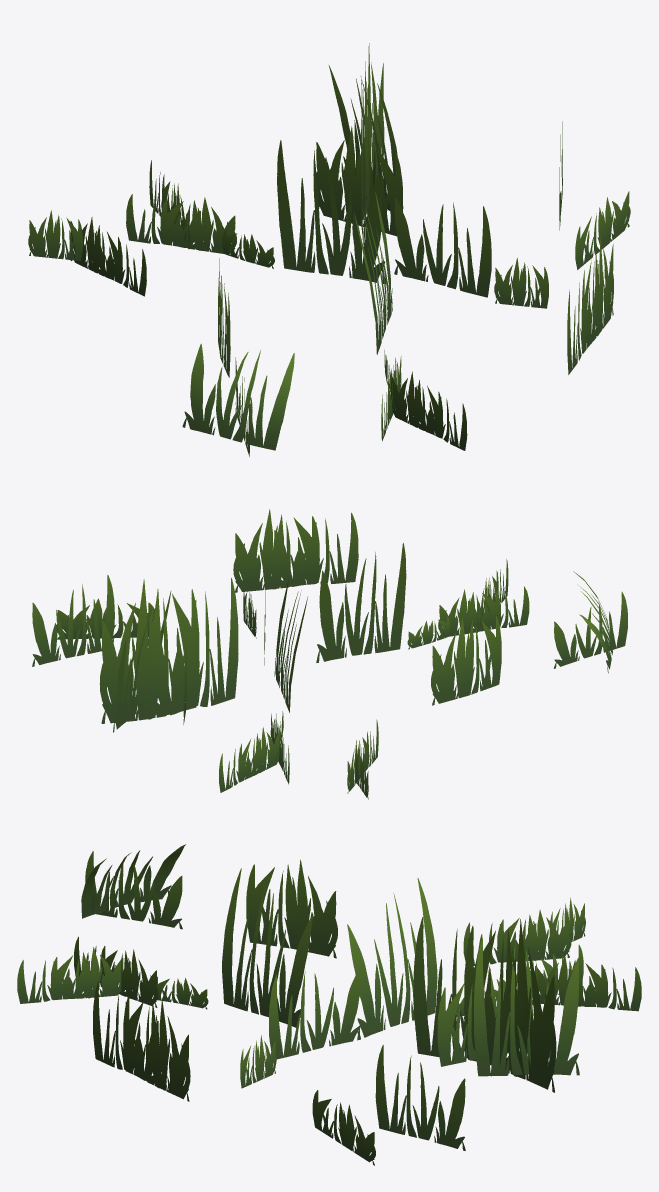
File: SM_Grass_Cards.fbx
3 views of the same model, one above another, from view 1: azimuth 30°, elevation 25°; view 2: azimuth 150°, elevation 25°; view 3: azimuth 270°, elevation 25° (orthographic). The views are drawn at different scales.
Parts seen in each view (by area): view 1: Grass_Cards; view 2: Grass_Cards; view 3: Grass_Cards.
Boxes of the visible parts, x1=… form: Grass_Cards: x1=28, y1=43, x2=630, y2=456; Grass_Cards: x1=32, y1=509, x2=627, y2=799; Grass_Cards: x1=17, y1=844, x2=641, y2=1165.
Bounding box in the file's own units: 249 × 71.11 × 247.
1 material, 1 textured.
